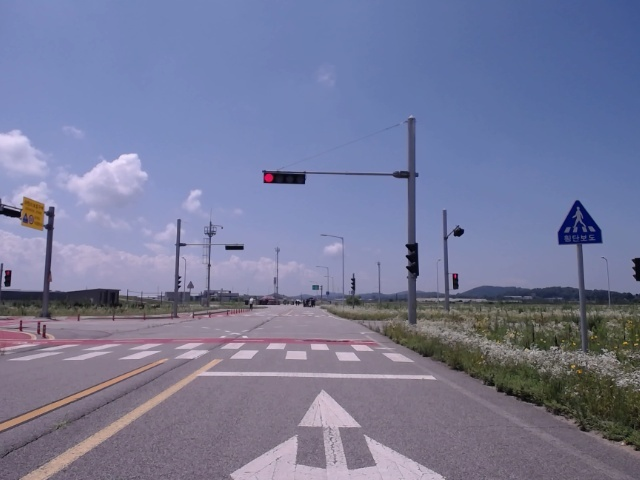red_4: (263, 172, 306, 183)
